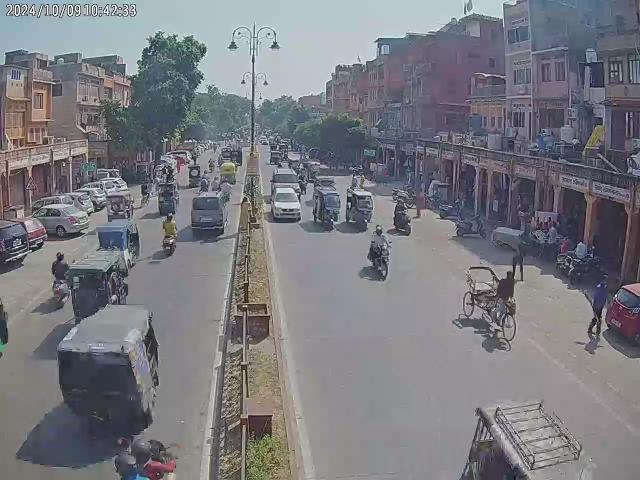auto: (58, 304, 160, 444), (457, 401, 601, 480), (68, 250, 124, 308), (95, 219, 140, 265), (346, 188, 374, 230), (312, 186, 341, 226), (104, 190, 136, 220), (156, 182, 180, 214), (218, 160, 238, 184)
car: (604, 278, 640, 346), (30, 202, 90, 237), (190, 189, 228, 237), (80, 177, 130, 207), (269, 186, 301, 222)
helmet: (56, 251, 64, 260), (165, 214, 174, 220)
motorbike: (568, 256, 602, 282)
motorbike-rider: (105, 430, 177, 480), (368, 223, 390, 277)
person: (588, 274, 610, 338), (412, 189, 428, 219), (574, 238, 590, 262)
rickshow: (464, 264, 518, 341)
scooty: (455, 214, 485, 240), (438, 198, 464, 218)
scooty-rider: (51, 251, 69, 306), (161, 212, 178, 254), (394, 198, 412, 234)
